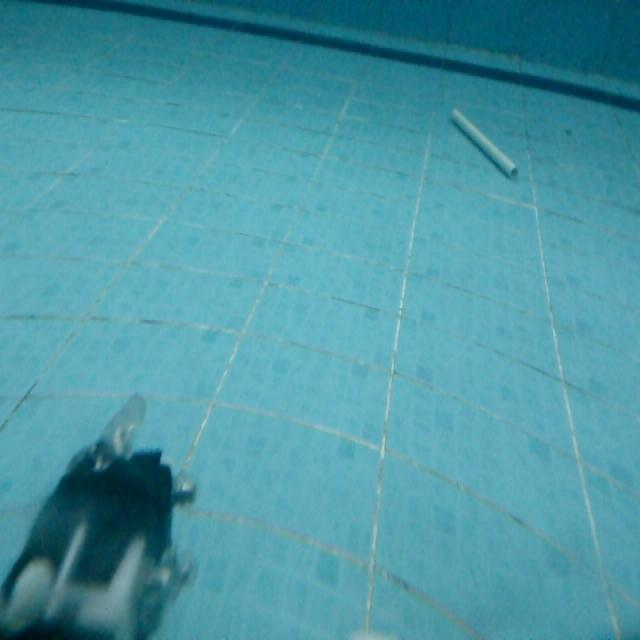Cube: (448, 105, 521, 180)
